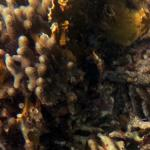alive: (4, 3, 144, 146)
